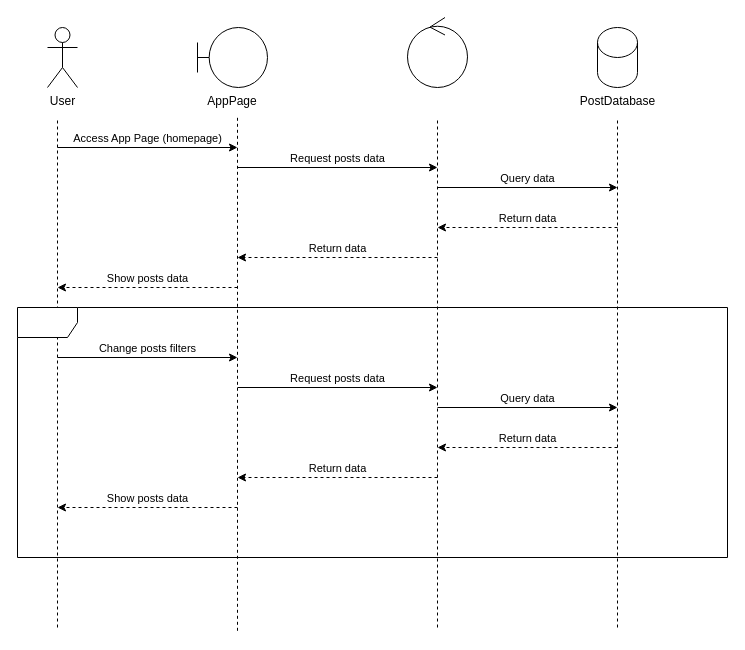
The diagram is 745 pixels wide and 650 high, and some of its shapes have lost their labels. The shapes that lost their labels are listed below. From the top down, each one's box as (x1, y1, x2, y2) in pixels, then its label:
(406, 16, 468, 88): AppController
(16, 306, 728, 558): loop
